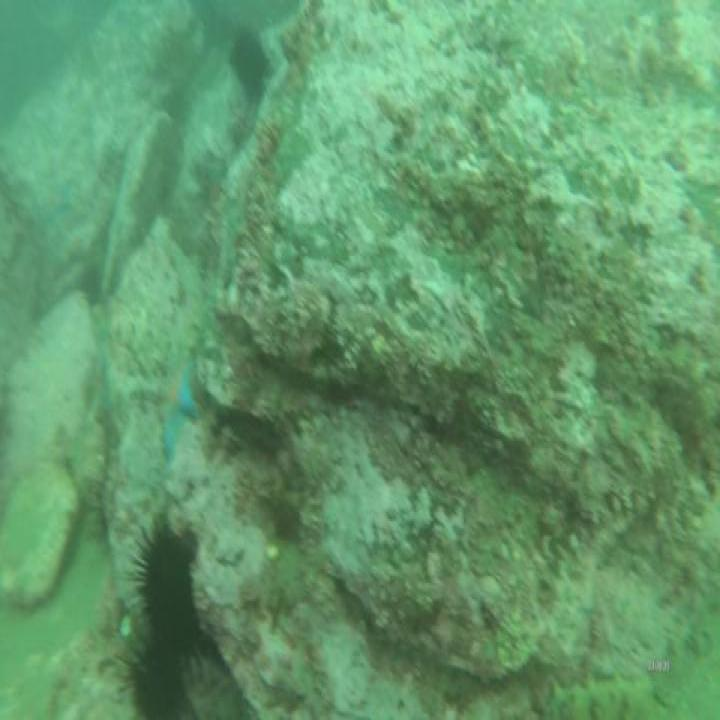echinus: (139, 514, 208, 652), (125, 626, 198, 720), (230, 20, 269, 96)
starfish: (148, 352, 199, 459)
